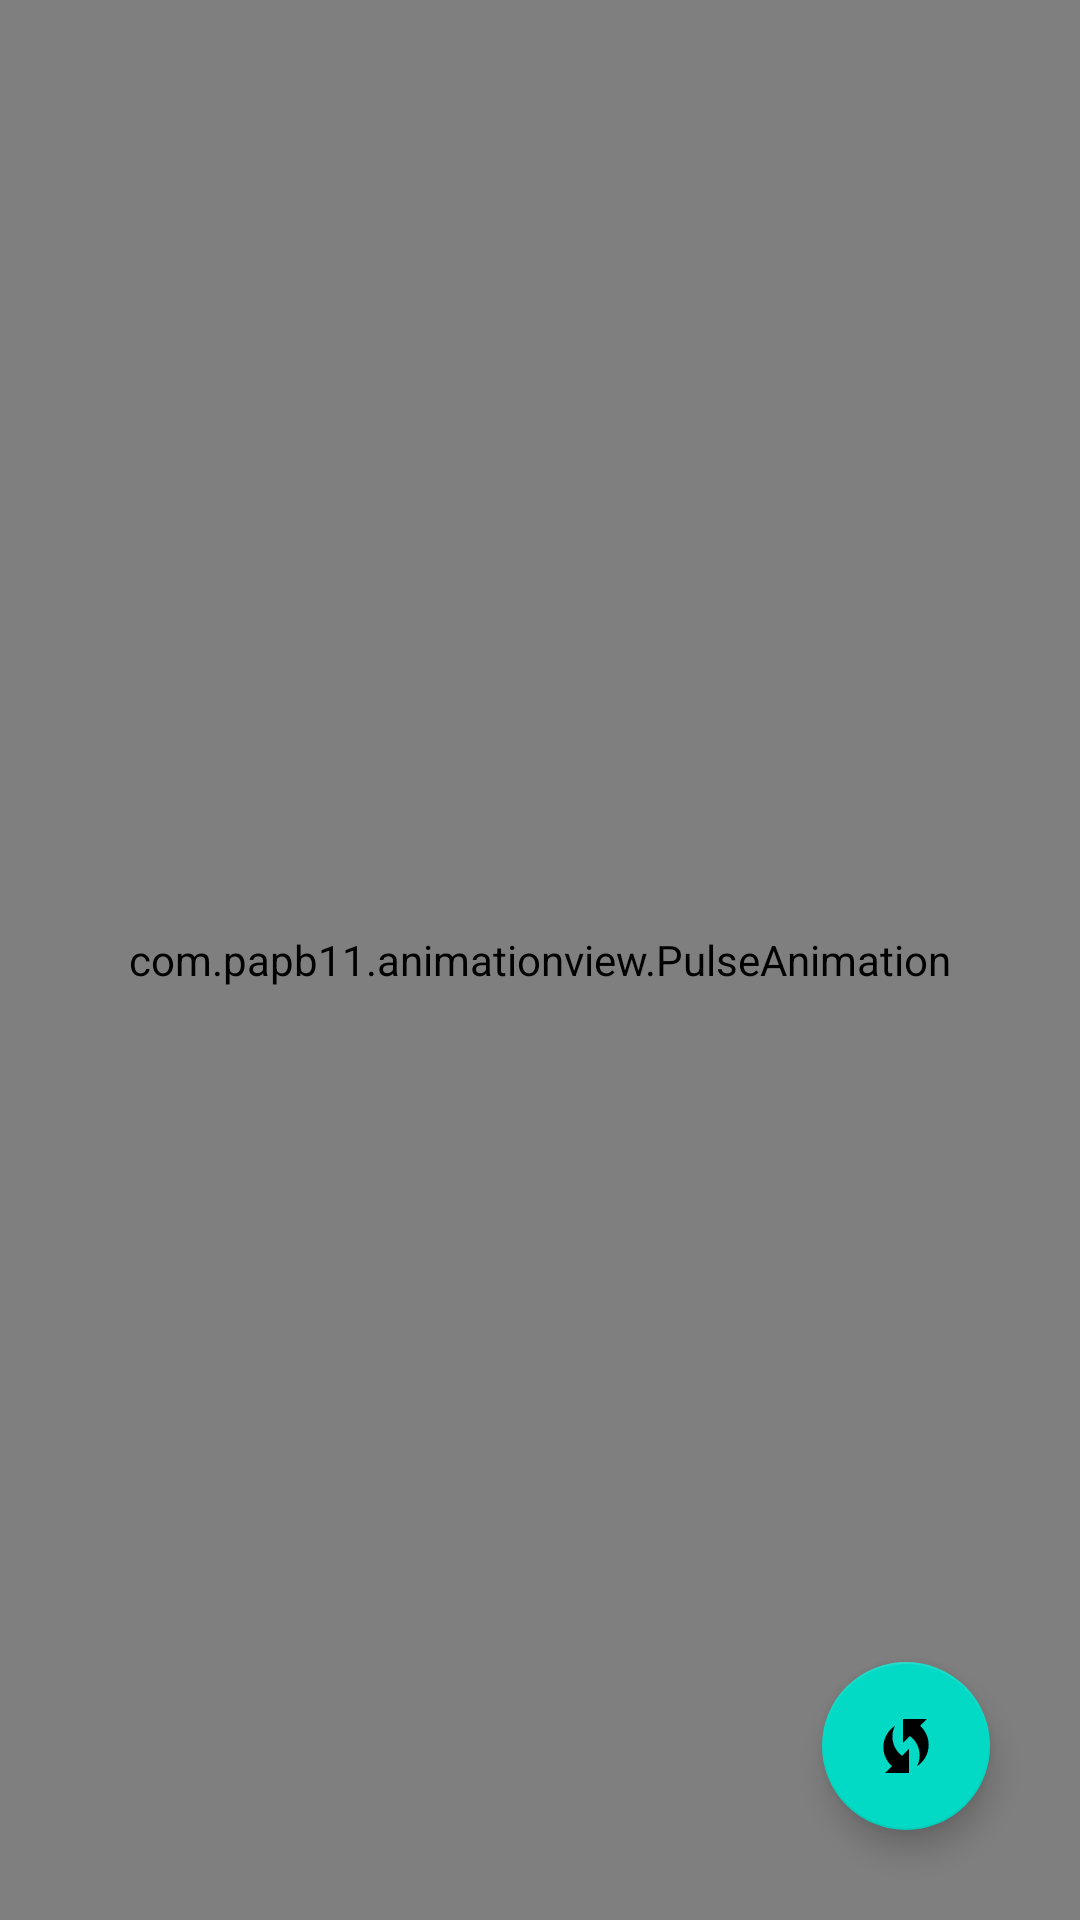

Point at icon controls on the screen. Image size 1080w x 1920h, points as (x,y).
change: (906,1746)
